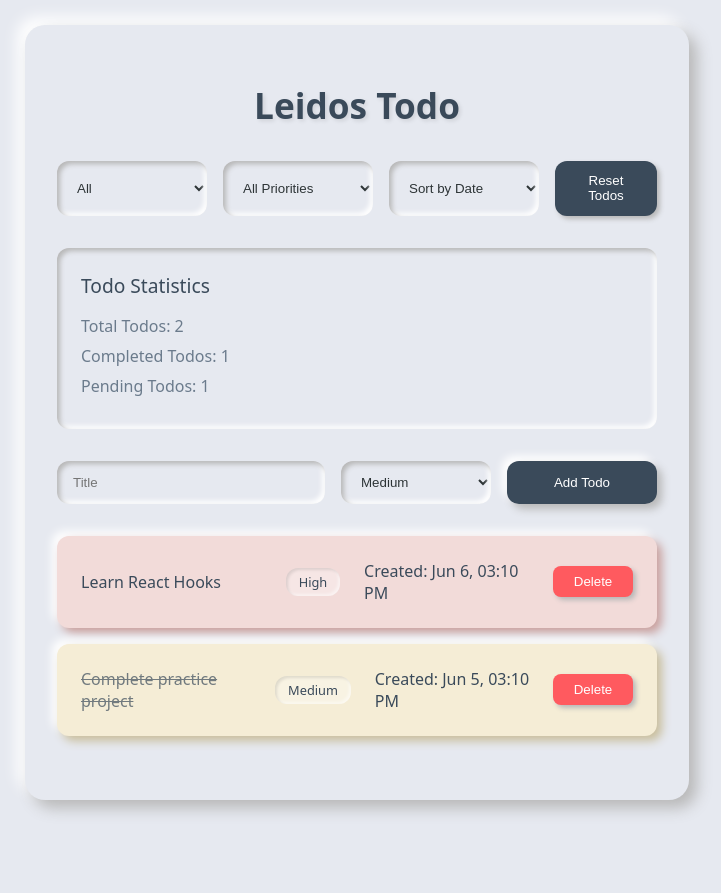
Test: App Component › resets todos to initial state when reset button is clicked
Type "Test Todo" into the field with placeholder "Title" at (191, 482), box [57, 461, 325, 504]
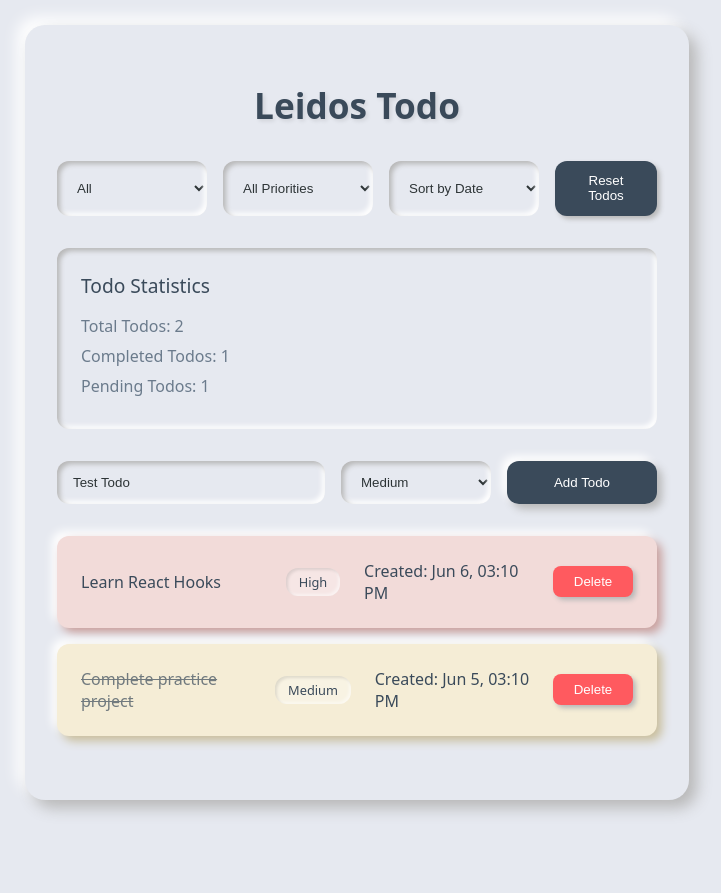
Click the button "Add Todo" at (582, 482), box [507, 461, 657, 504]
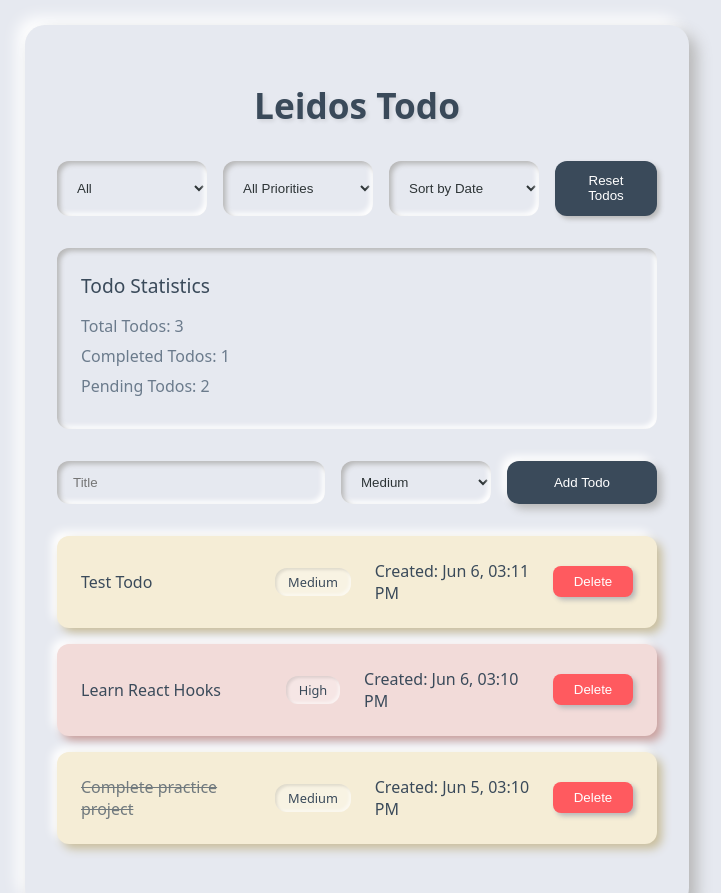
Click the button "Reset Todos" at (606, 188), box [555, 161, 657, 216]
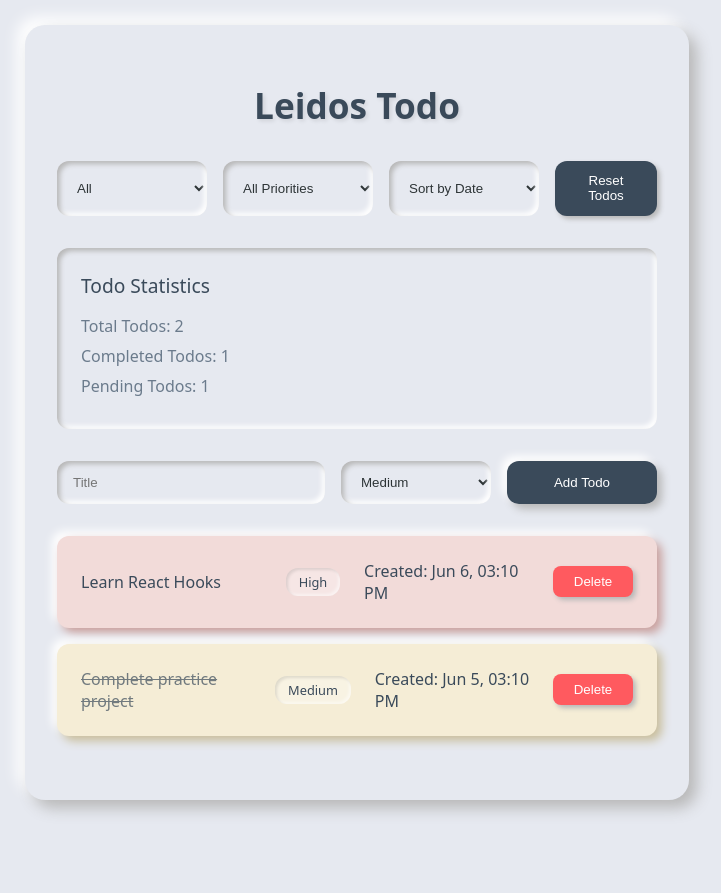
Expected: the text "Learn React Hooks" is shown, [81, 571, 221, 593]
Result: the text "Test Todo" is gone
